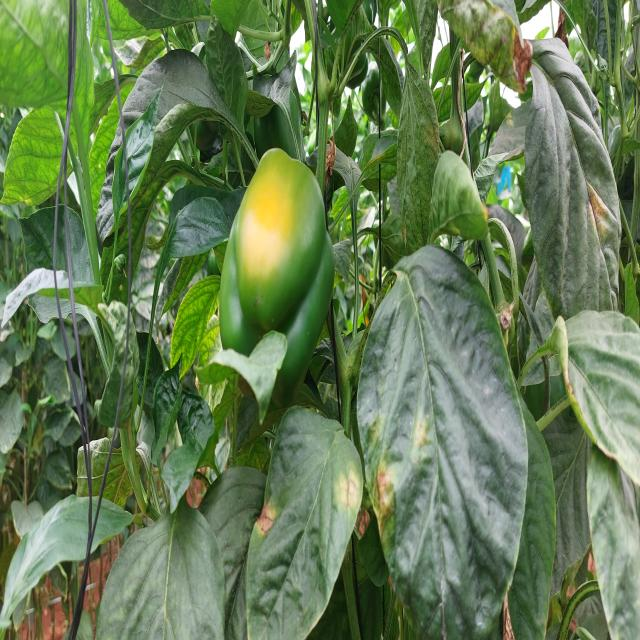GreenishYellow--Can-be-Harvested: (198, 130, 340, 402)
